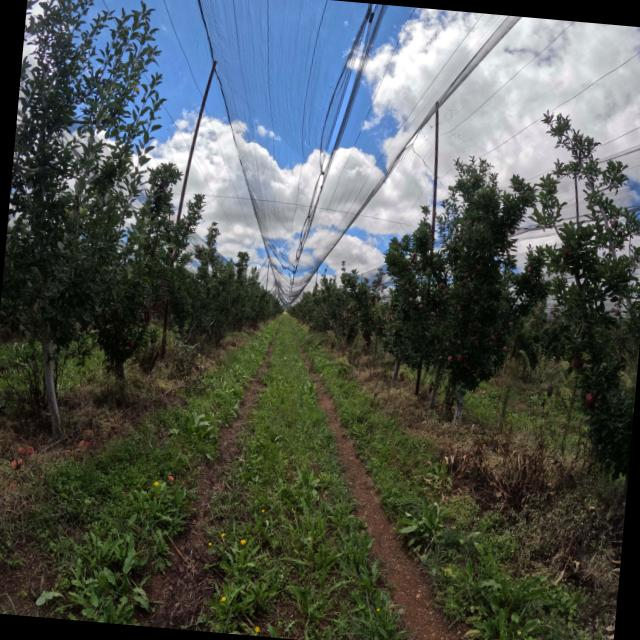-FireBlight-: (138, 298, 166, 327)
